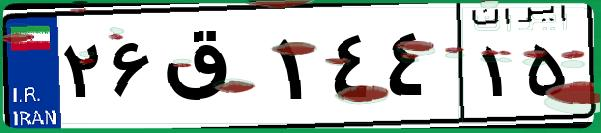1: (270, 28, 330, 110), (475, 38, 525, 113)
2: (57, 26, 110, 100)
4: (385, 28, 445, 110), (330, 28, 385, 110)
5: (525, 38, 570, 115)
6: (110, 28, 158, 98)
ق: (158, 20, 270, 120)
